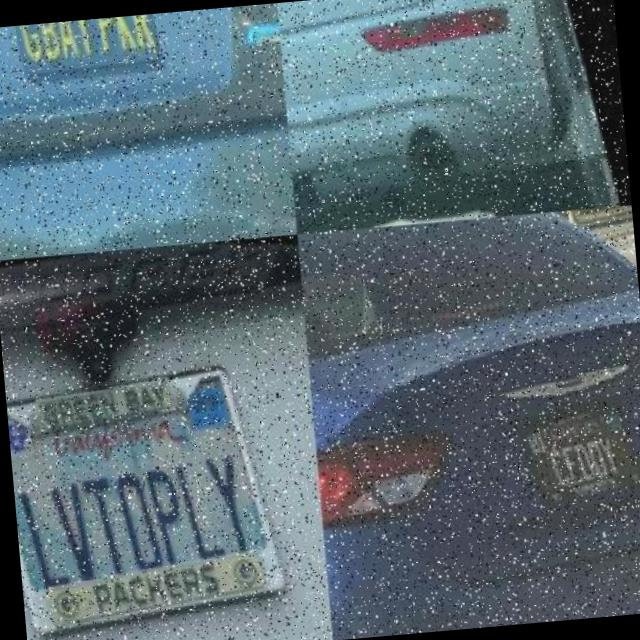LicensePlate: (1, 325, 295, 640), (0, 12, 174, 98), (514, 385, 640, 502), (276, 0, 330, 48)
